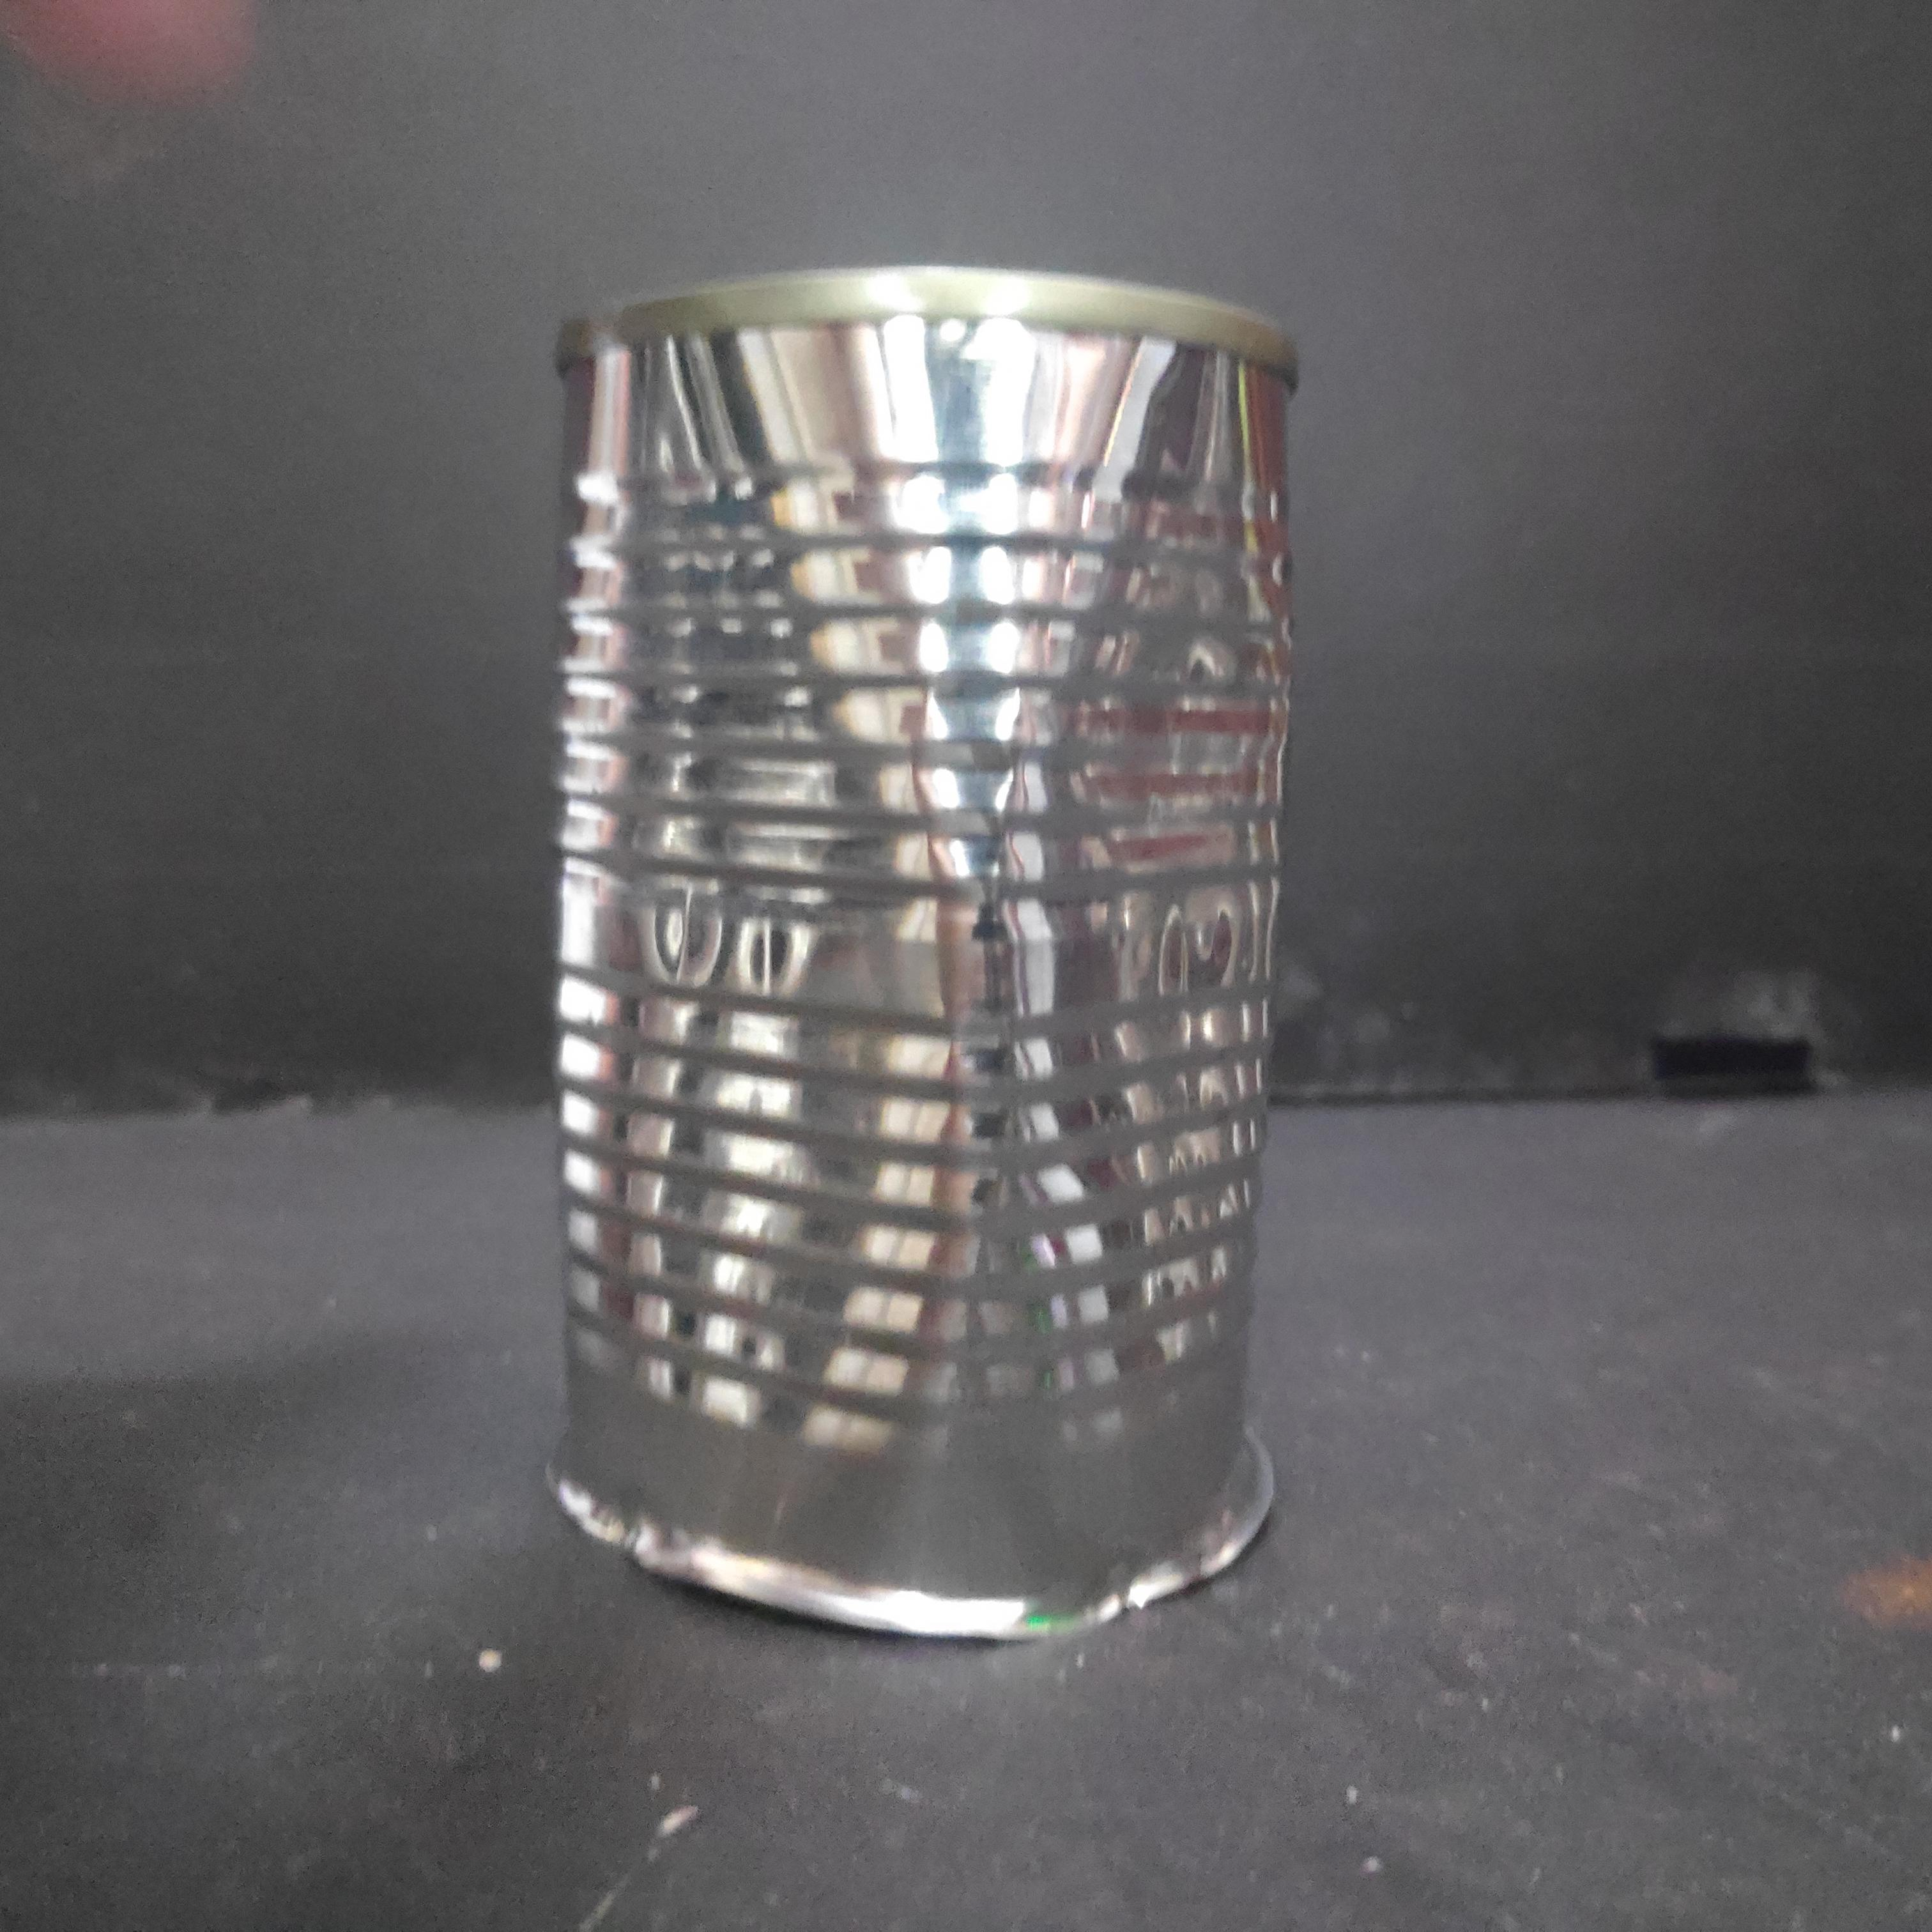Minor Defect: (525, 253, 1311, 1644)
